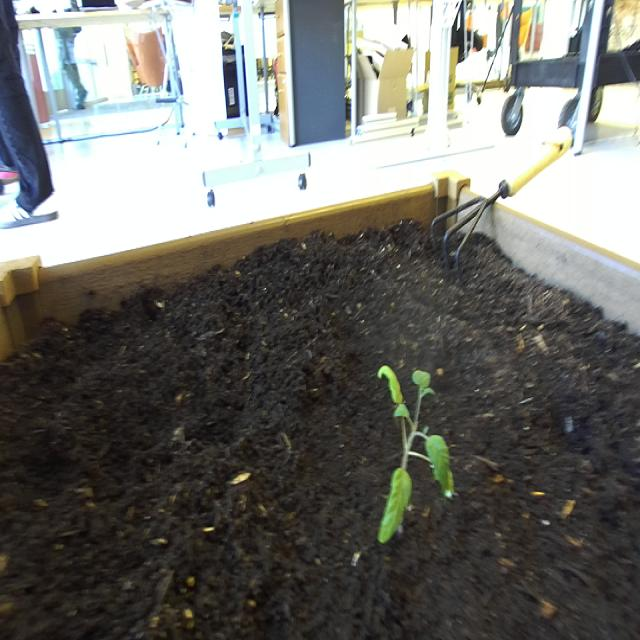Healthy: (359, 321, 462, 559)
